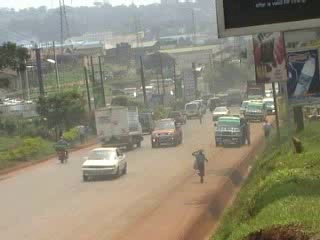Car: (80, 145, 131, 186), (211, 104, 230, 125), (167, 109, 188, 126), (206, 96, 227, 112)
Motorcycle: (52, 135, 70, 166)
